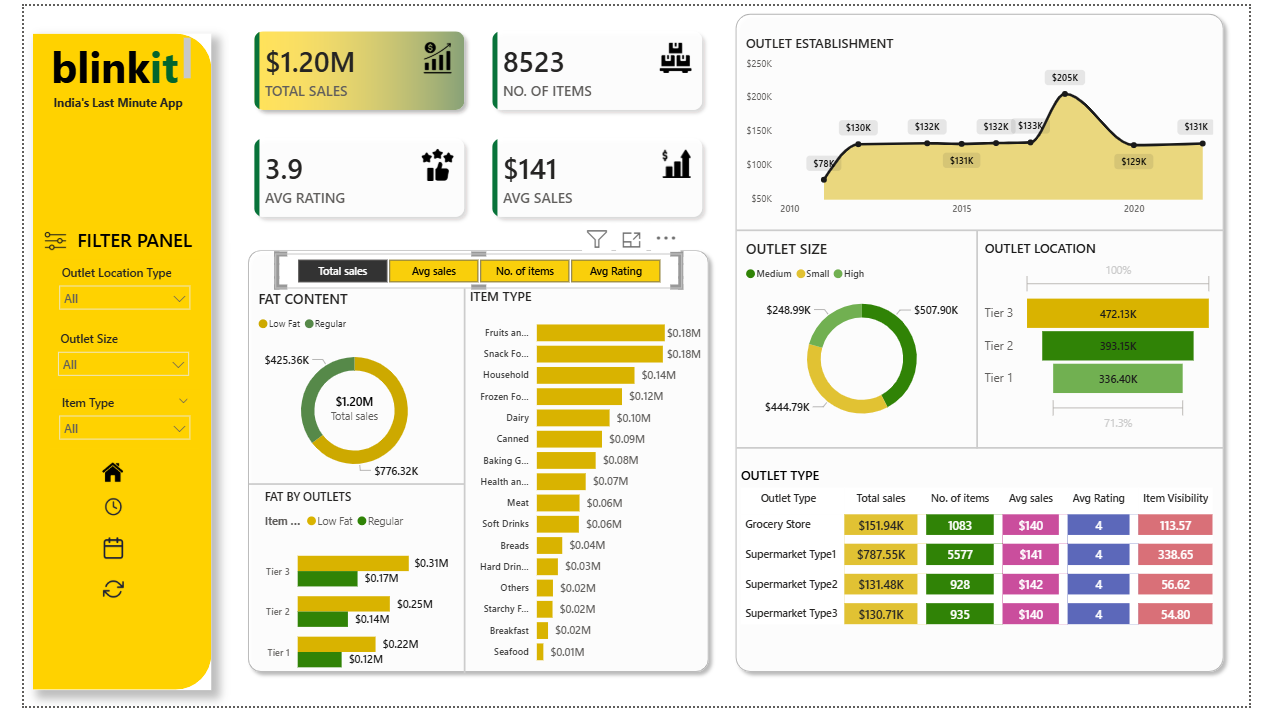

The page's visual inventory and layout, read from the dashboard file:
{"tool":"powerbi","page":{"name":"Page 1","canvas":[1400,800],"ordinal":0},"visuals":[{"type":"shape","box":[10,31.4,204.3,750],"z":0},{"type":"textbox","box":[25.7,31.4,170,64.3],"z":1000},{"type":"textbox","box":[28.6,95.7,167.1,32.9],"z":2000},{"type":"cardVisual","fields":{"Data":["BlinkIT Grocery Data.Total sales","BlinkIT Grocery Data.No. of items","BlinkIT Grocery Data.Avg Rating","BlinkIT Grocery Data.Avg sales"]},"box":[234.3,0,570,270],"z":3000},{"type":"shape","box":[247.1,270,544.3,500],"z":4000},{"type":"donutChart","title":"FAT CONTENT","fields":{"Y":["BlinkIT Grocery Data.Total sales"],"Category":["BlinkIT Grocery Data.Item Fat Content"]},"box":[262.9,322.9,230,230],"z":5000},{"type":"slicer","fields":{"Values":["Metrices.Metrices"]},"box":[287.1,282.9,464.3,40],"z":6000},{"type":"cardVisual","fields":{"Data":["BlinkIT Grocery Data.Total sales"]},"box":[321.4,428.6,112.9,62.9],"z":7000},{"type":"clusteredBarChart","title":"FAT BY OUTLETS ","fields":{"Y":["BlinkIT Grocery Data.Total sales"],"Category":["BlinkIT Grocery Data.Outlet Location Type"],"Series":["BlinkIT Grocery Data.Item Fat Content"]},"box":[270,551.5,220,230],"z":8000},{"type":"shape","box":[256.7,520,246,52.7],"z":9000},{"type":"shape","box":[488.7,321.3,30,441.3],"z":10000},{"type":"barChart","title":"ITEM TYPE","fields":{"Y":["BlinkIT Grocery Data.Total sales"],"Category":["BlinkIT Grocery Data.Item Type"]},"box":[504.3,321.4,274.3,441.4],"z":11000},{"type":"shape","box":[804.3,0,575.7,770],"z":12000},{"type":"lineChart","title":"OUTLET ESTABLISHMENT","fields":{"Y":["BlinkIT Grocery Data.Total sales"],"Category":["BlinkIT Grocery Data.Outlet Establishment Year"]},"box":[820,31.4,544.3,217.1],"z":13000},{"type":"shape","box":[814,230,556.7,52.7],"z":14000},{"type":"donutChart","title":"OUTLET SIZE","fields":{"Y":["BlinkIT Grocery Data.Total sales"],"Category":["BlinkIT Grocery Data.Outlet Size"]},"box":[820,265.7,275.7,225.7],"z":15000},{"type":"funnel","title":"OUTLET LOCATION","fields":{"Category":["BlinkIT Grocery Data.Outlet Location Type"],"Y":["Sum(BlinkIT Grocery Data.Sales)"]},"box":[1092.9,265.7,271.4,225.7],"z":16000},{"type":"shape","box":[1082.9,257.1,12.9,248.6],"z":17000},{"type":"shape","box":[814.3,478.6,557.1,52.9],"z":18000},{"type":"pivotTable","title":"OUTLET TYPE","fields":{"Values":["BlinkIT Grocery Data.Total sales","BlinkIT Grocery Data.No. of items","BlinkIT Grocery Data.Avg sales","BlinkIT Grocery Data.Avg Rating","Sum(BlinkIT Grocery Data.Item Visibility)"],"Rows":["BlinkIT Grocery Data.Outlet Type"]},"box":[813.8,526.2,556.9,216.9],"z":19000},{"type":"slicer","fields":{"Values":["BlinkIT Grocery Data.Item Type"]},"box":[30,438.6,170,67.1],"z":20000},{"type":"slicer","fields":{"Values":["BlinkIT Grocery Data.Outlet Size"]},"box":[28.6,365.7,170,67.1],"z":21000},{"type":"slicer","fields":{"Values":["BlinkIT Grocery Data.Outlet Location Type"]},"box":[30,290,170,65.7],"z":22000},{"type":"textbox","box":[55,246.4,154.3,39.3],"z":23000},{"type":"image","box":[81.4,512.9,40,40],"z":24000},{"type":"image","box":[88.6,604.3,27.1,30],"z":25000},{"type":"image","box":[88.6,561.4,27.1,21.4],"z":26000},{"type":"image","box":[88.6,654.3,27.1,24.3],"z":27000},{"type":"image","box":[17.1,247.1,37.9,45.7],"z":27001}]}

Visuals, with their boxes in screenshot pixels (x1, y1, x2, y2), scaled from the page's 1400x800 canvas onto the 1284x728 screenshot:
shape: locate(9, 29, 197, 711)
textbox: locate(24, 29, 179, 87)
textbox: locate(26, 87, 179, 117)
cardVisual - BlinkIT Grocery Data.Total sales x BlinkIT Grocery Data.No. of items: locate(215, 0, 738, 246)
shape: locate(227, 246, 726, 701)
"FAT CONTENT" donutChart: locate(241, 294, 452, 503)
slicer - Metrices.Metrices: locate(263, 257, 689, 294)
cardVisual - BlinkIT Grocery Data.Total sales: locate(295, 390, 398, 447)
"FAT BY OUTLETS " clusteredBarChart: locate(248, 502, 449, 711)
shape: locate(235, 473, 461, 521)
shape: locate(448, 292, 476, 694)
"ITEM TYPE" barChart: locate(463, 292, 714, 694)
shape: locate(738, 0, 1266, 701)
"OUTLET ESTABLISHMENT" lineChart: locate(752, 29, 1251, 226)
shape: locate(747, 209, 1257, 257)
"OUTLET SIZE" donutChart: locate(752, 242, 1005, 447)
"OUTLET LOCATION" funnel: locate(1002, 242, 1251, 447)
shape: locate(993, 234, 1005, 460)
shape: locate(747, 436, 1258, 484)
"OUTLET TYPE" pivotTable: locate(746, 479, 1257, 676)
slicer - BlinkIT Grocery Data.Item Type: locate(28, 399, 183, 460)
slicer - BlinkIT Grocery Data.Outlet Size: locate(26, 333, 182, 394)
slicer - BlinkIT Grocery Data.Outlet Location Type: locate(28, 264, 183, 324)
textbox: locate(50, 224, 192, 260)
image: locate(75, 467, 111, 503)
image: locate(81, 550, 106, 577)
image: locate(81, 511, 106, 530)
image: locate(81, 595, 106, 618)
image: locate(16, 225, 50, 266)
